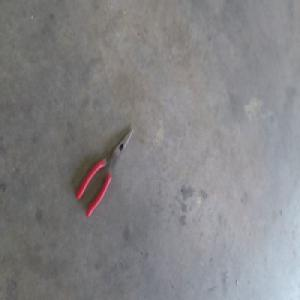Pliers: (78, 127, 135, 217)
